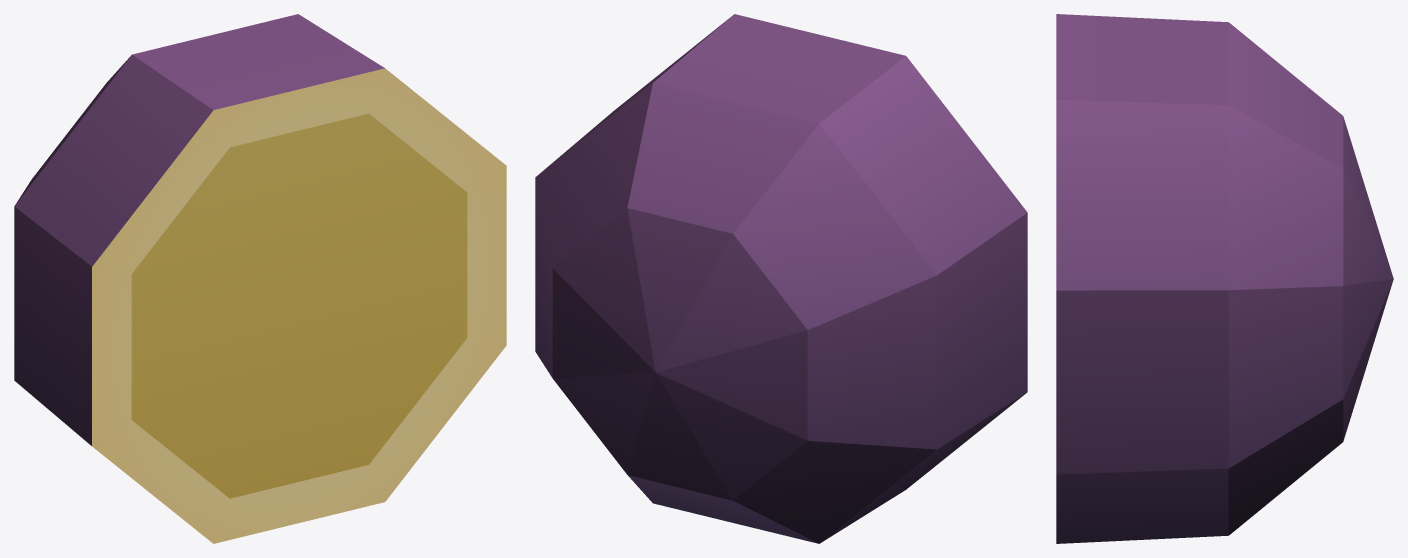
File: Passion Fruit Half.fbx
3 renders of one model, left to right at view 1: azimuth 30°, elevation 25°; view 2: azimuth 150°, elevation 25°; view 3: azimuth 270°, elevation 25°, orthographic. The views are drawn at different scales.
Visible parts, largest first — view 1: Passion Fruit Half; view 2: Passion Fruit Half; view 3: Passion Fruit Half.
Part boxes in pixels (x1,y1,x2,y2): Passion Fruit Half: (14,14,506,543); Passion Fruit Half: (535,14,1027,543); Passion Fruit Half: (1056,14,1393,543).
Size of the model in its own units: 7.31 by 7.31 by 5.03.
